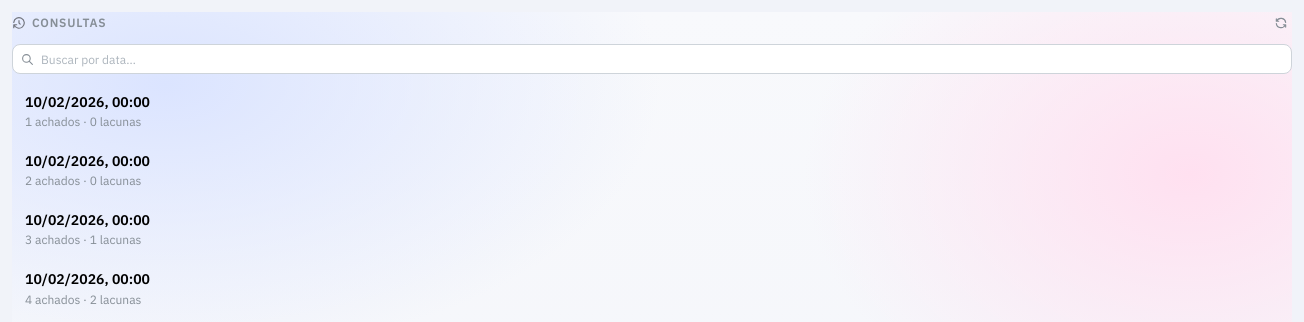
HistoryPanel: mostra busca quando ha muitos itens e filtra por contagem
Type "3 achados 1 lacunas" into the field with placeholder "Buscar por data…" at (652, 59), box [12,44,1292,74]
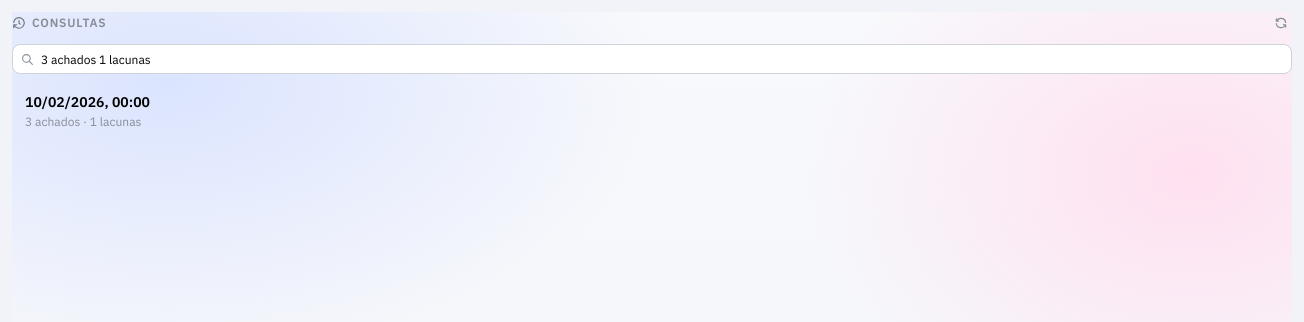
Check: the text "3 achados · 1 lacunas" is shown, box [25,114,150,131]
Check: the button "4 achados · 2 lacunas" is gone
